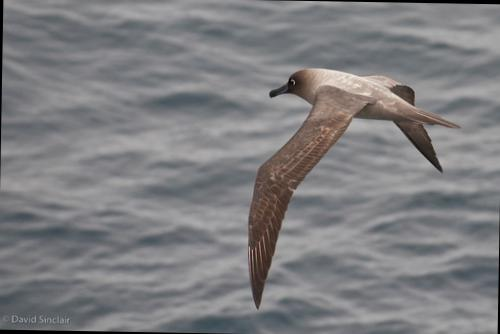bird: (232, 54, 471, 324)
